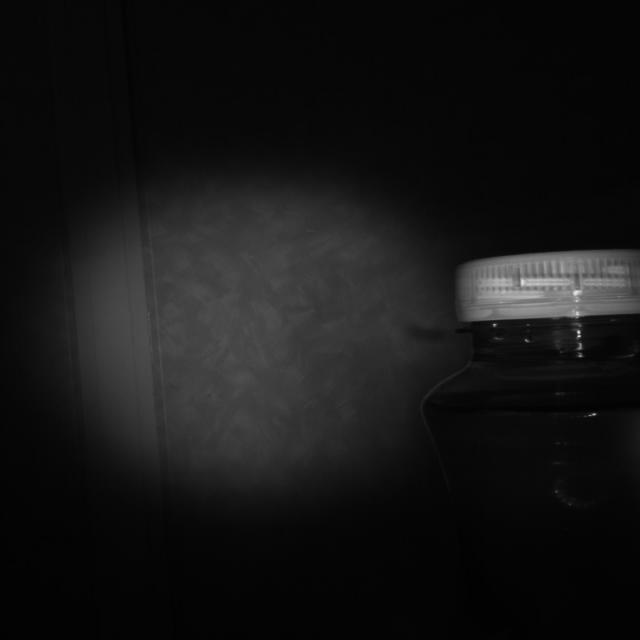Good: (455, 250, 640, 323)
